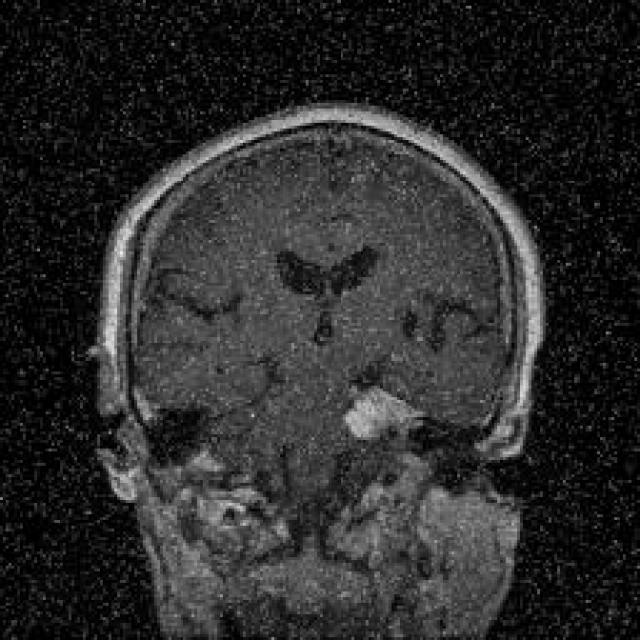meningioma_tumor: (334, 380, 442, 449)
